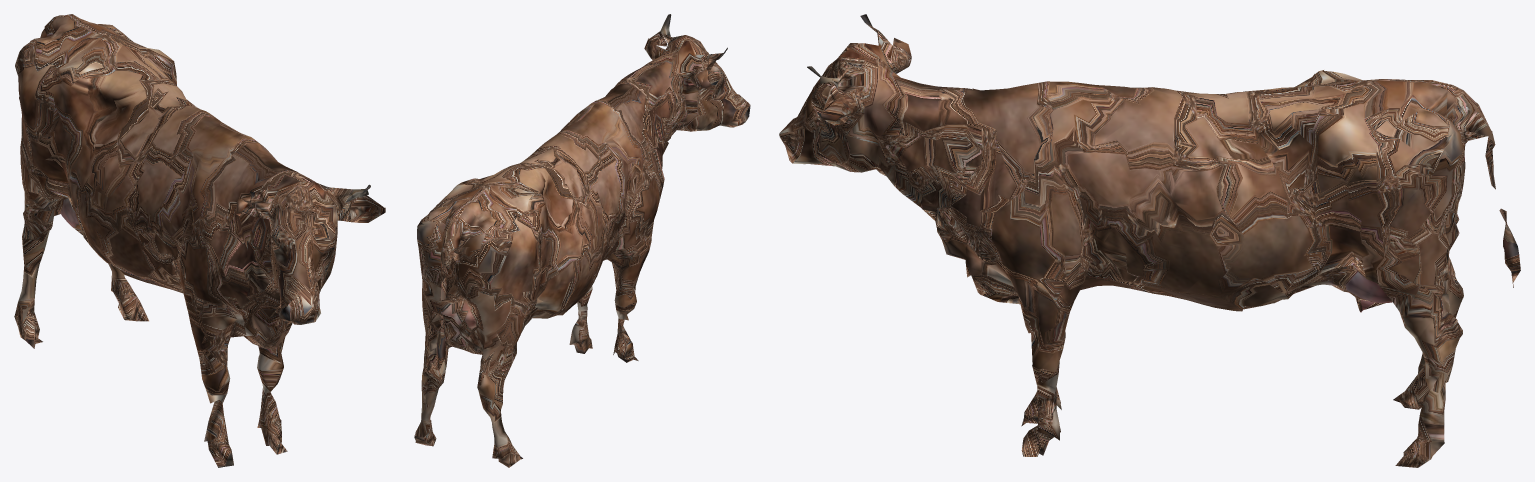
File: cow.glb
3 renders of one model, left to right at view 1: azimuth 30°, elevation 25°; view 2: azimuth 150°, elevation 25°; view 3: azimuth 270°, elevation 25°, orthographic. The views are drawn at different scales.
Parts seen in each view (by area): view 1: body; view 2: body; view 3: body.
Boxes of the visible parts, x1,y1,x2,y2 form: body: (14,14,385,467); body: (414,14,750,467); body: (779,14,1520,467).
Bounding box in the file's own units: 0.5236 × 1.2 × 2.09.
1 material, 1 textured.
